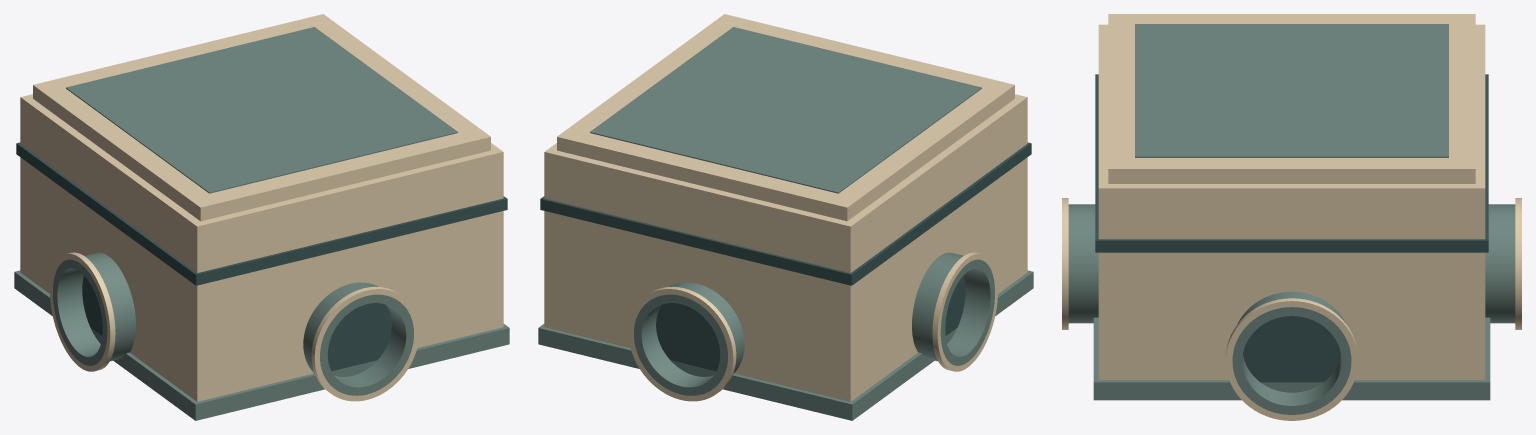
The model's file is Tube_Connector_1x1.glb.
The picture shows the model from 3 angles, left to right: view 1: azimuth 30°, elevation 25°; view 2: azimuth 150°, elevation 25°; view 3: azimuth 270°, elevation 25°; orthographic projection. The views are drawn at different scales.
Visible parts, largest first — view 1: Tube_Connector_1x1; view 2: Tube_Connector_1x1; view 3: Tube_Connector_1x1.
Part boxes in pixels (x1,y1,x2,y2): Tube_Connector_1x1: [14, 14, 509, 420]; Tube_Connector_1x1: [538, 14, 1033, 420]; Tube_Connector_1x1: [1062, 14, 1521, 420].
Size of the model in its own units: 2.78 by 1.56 by 2.78.
